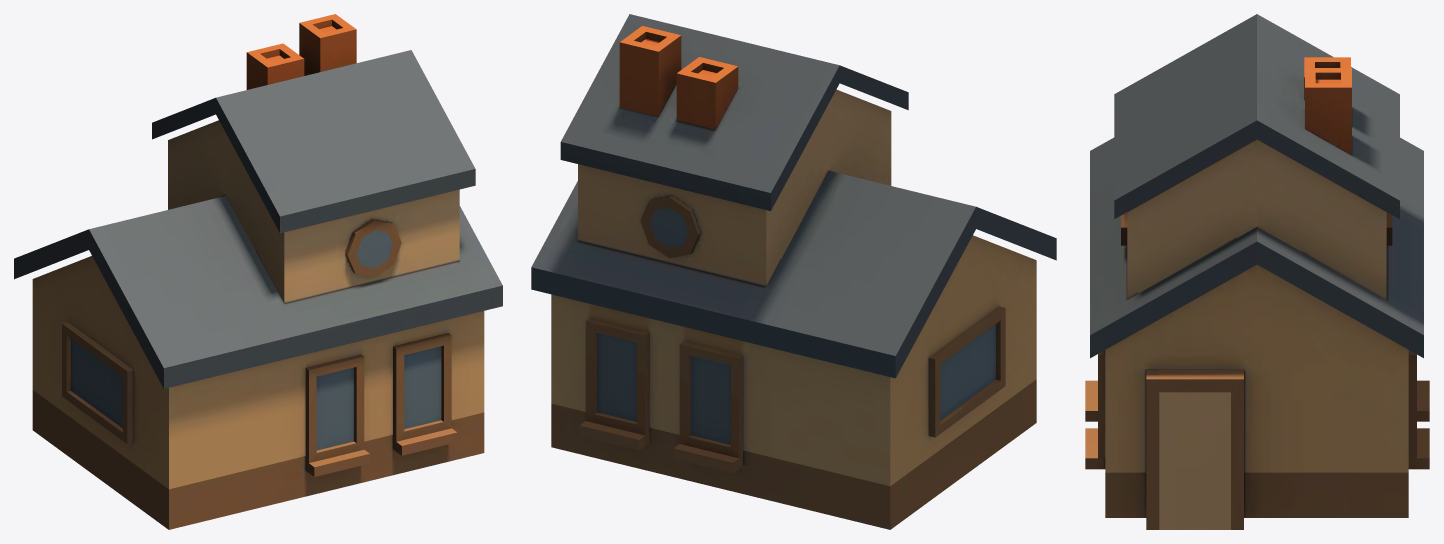
The model's file is house.glb.
3 renders of one model, left to right at view 1: azimuth 30°, elevation 25°; view 2: azimuth 150°, elevation 25°; view 3: azimuth 270°, elevation 25°, orthographic. The views are drawn at different scales.
Parts seen in each view (by area): view 1: house; view 2: house; view 3: house.
Part boxes in pixels (box(x1,y1,x2,y2)): house: box(14, 14, 502, 529); house: box(531, 14, 1056, 529); house: box(1085, 14, 1429, 529).
Size of the model in its own units: 5.87 by 6.02 by 4.56.
1 material, 1 textured.
